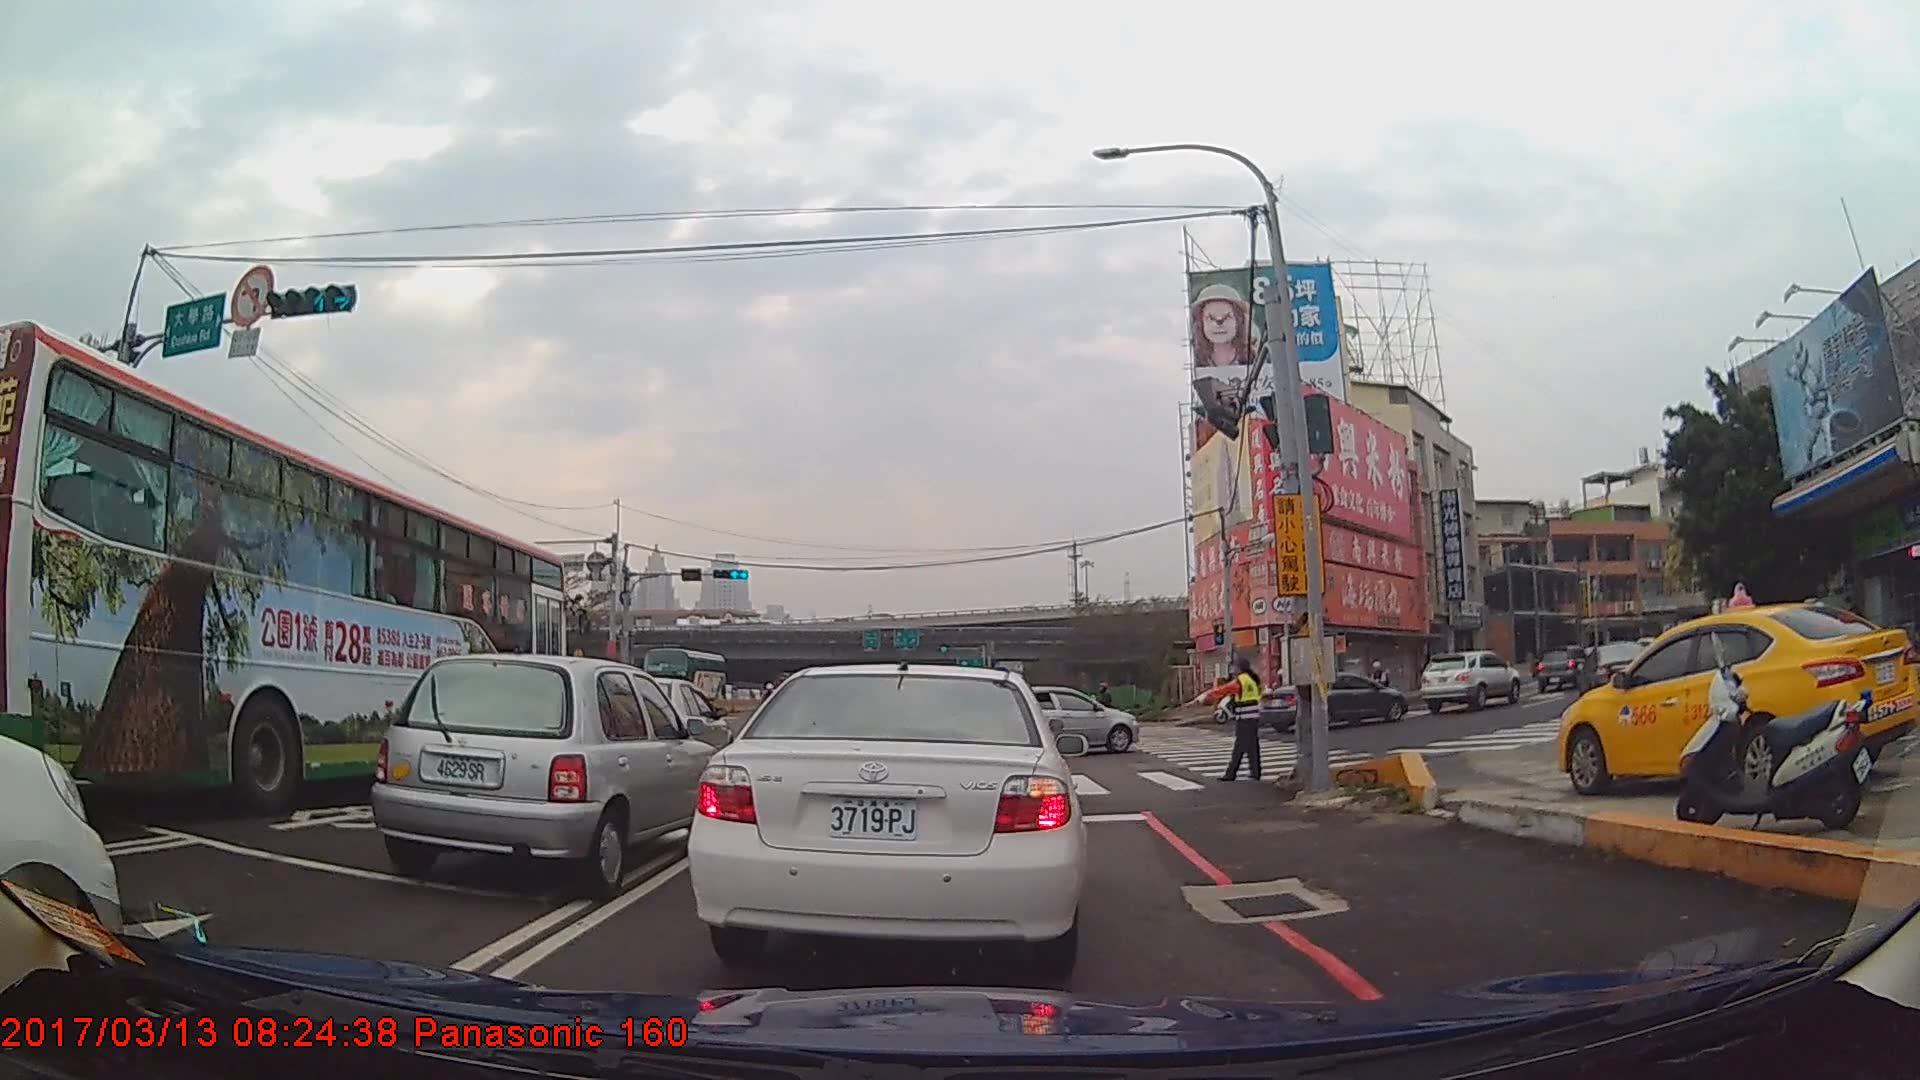pedestrian: (1183, 657, 1267, 789)
rider: (1360, 661, 1394, 712)
vehicle: (0, 316, 567, 810), (684, 659, 1087, 969), (368, 650, 725, 896), (1555, 600, 1918, 796), (972, 684, 1138, 756), (1261, 670, 1405, 735), (1418, 649, 1520, 712), (643, 645, 725, 707), (1578, 639, 1655, 706), (1536, 646, 1591, 692)
